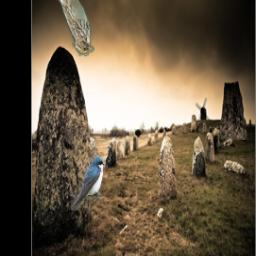Sparrow: (49, 0, 94, 57)
Swallow: (70, 156, 105, 211)
